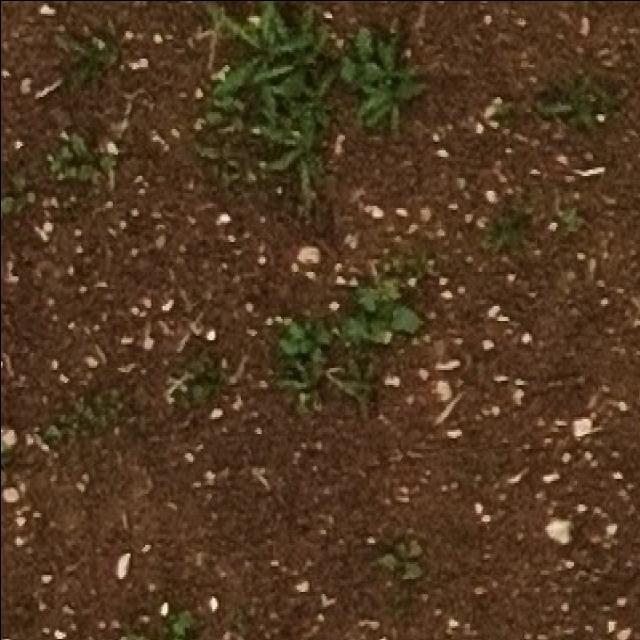cirse: (209, 1, 335, 96), (202, 0, 325, 97), (200, 0, 319, 94), (329, 33, 405, 133), (353, 31, 428, 132), (351, 35, 422, 135), (251, 103, 318, 201), (268, 99, 333, 200), (264, 97, 328, 190), (53, 17, 118, 95), (49, 13, 109, 95), (52, 18, 114, 95), (196, 85, 245, 178), (198, 89, 248, 180), (187, 92, 235, 184), (348, 350, 396, 416), (325, 356, 375, 419), (350, 355, 397, 421)
